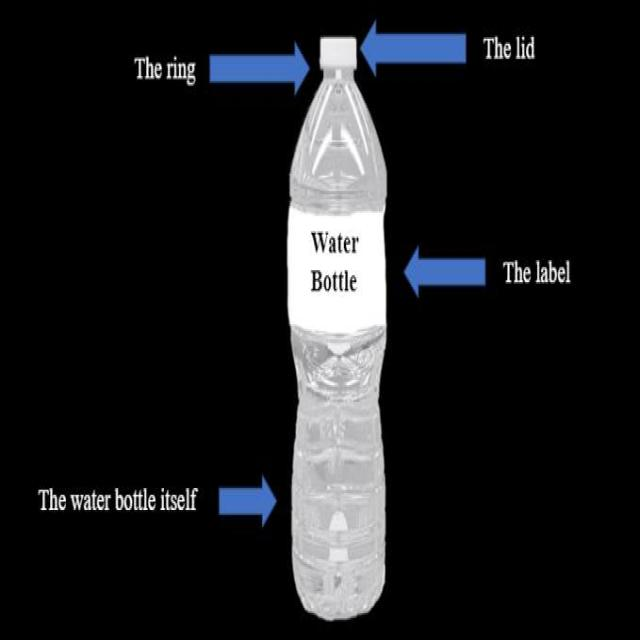bottle: (290, 36, 390, 620)
